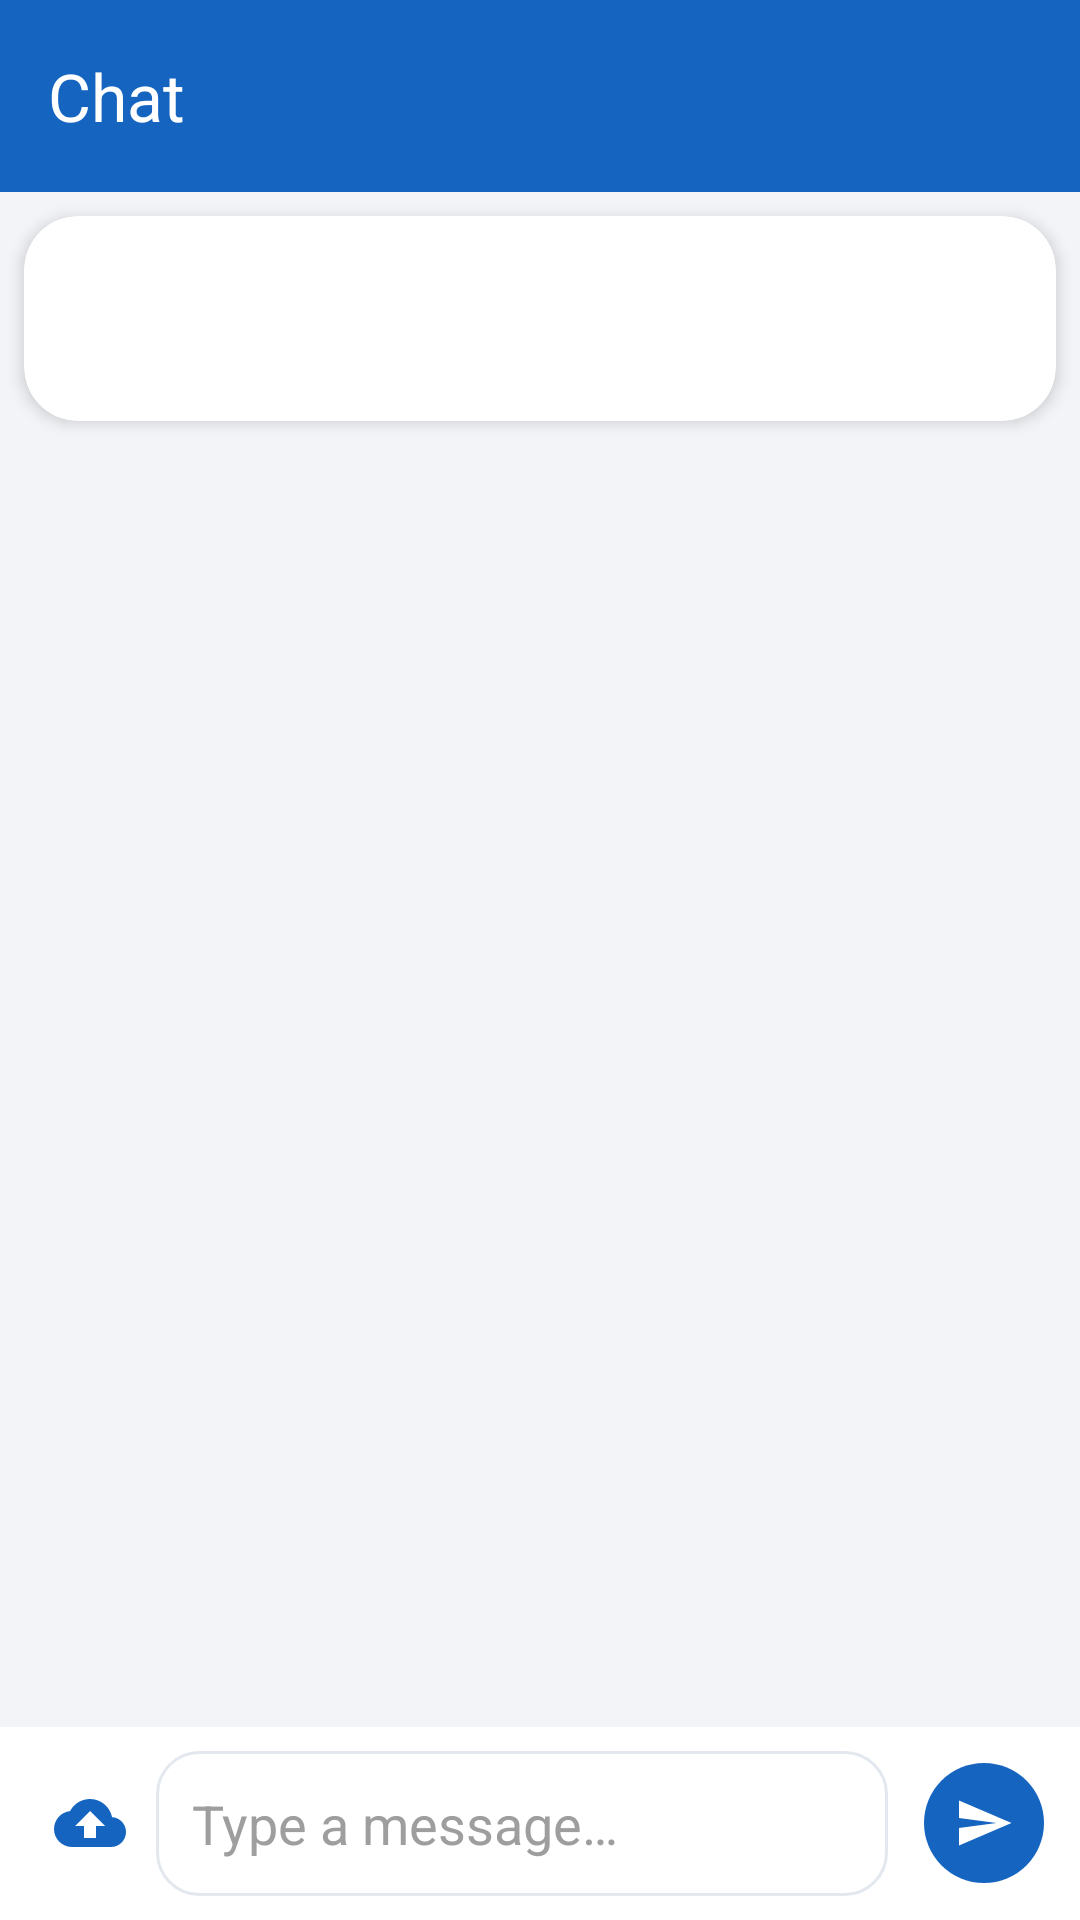

Named icons in this screenshot (1080px×1920px) and their bounding boxes, (x1, y1, x2, y2):
send: (924, 1763, 1044, 1883)
